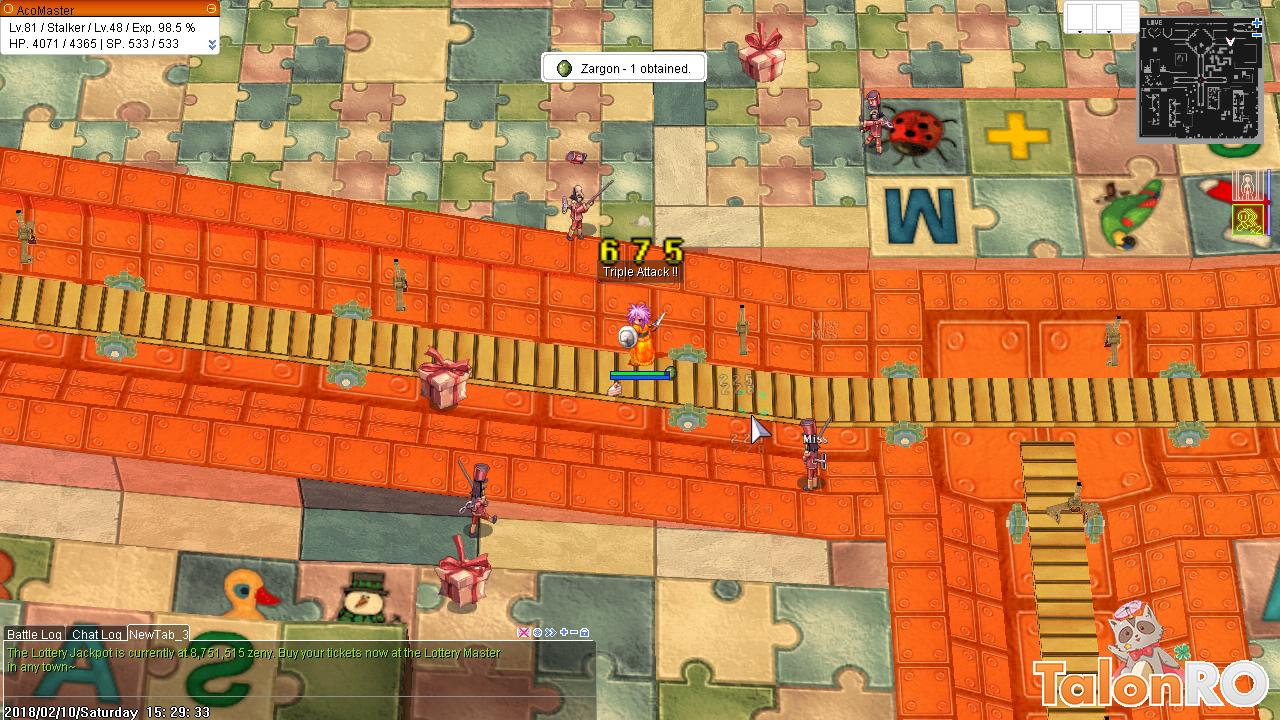loot: (605, 377, 625, 400), (662, 360, 678, 385)
mob: (557, 143, 615, 243), (450, 453, 501, 542), (851, 73, 897, 160), (800, 410, 839, 498)
myst_case: (435, 534, 490, 614), (734, 19, 794, 87), (416, 345, 473, 415)
